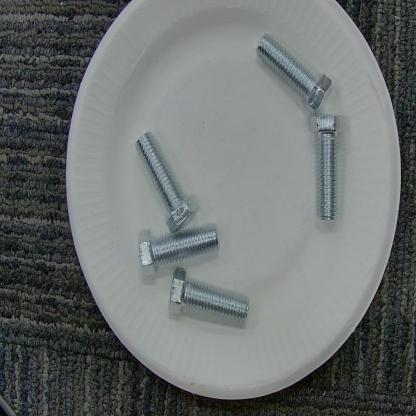FOD: (127, 127, 253, 334), (255, 28, 348, 225)
